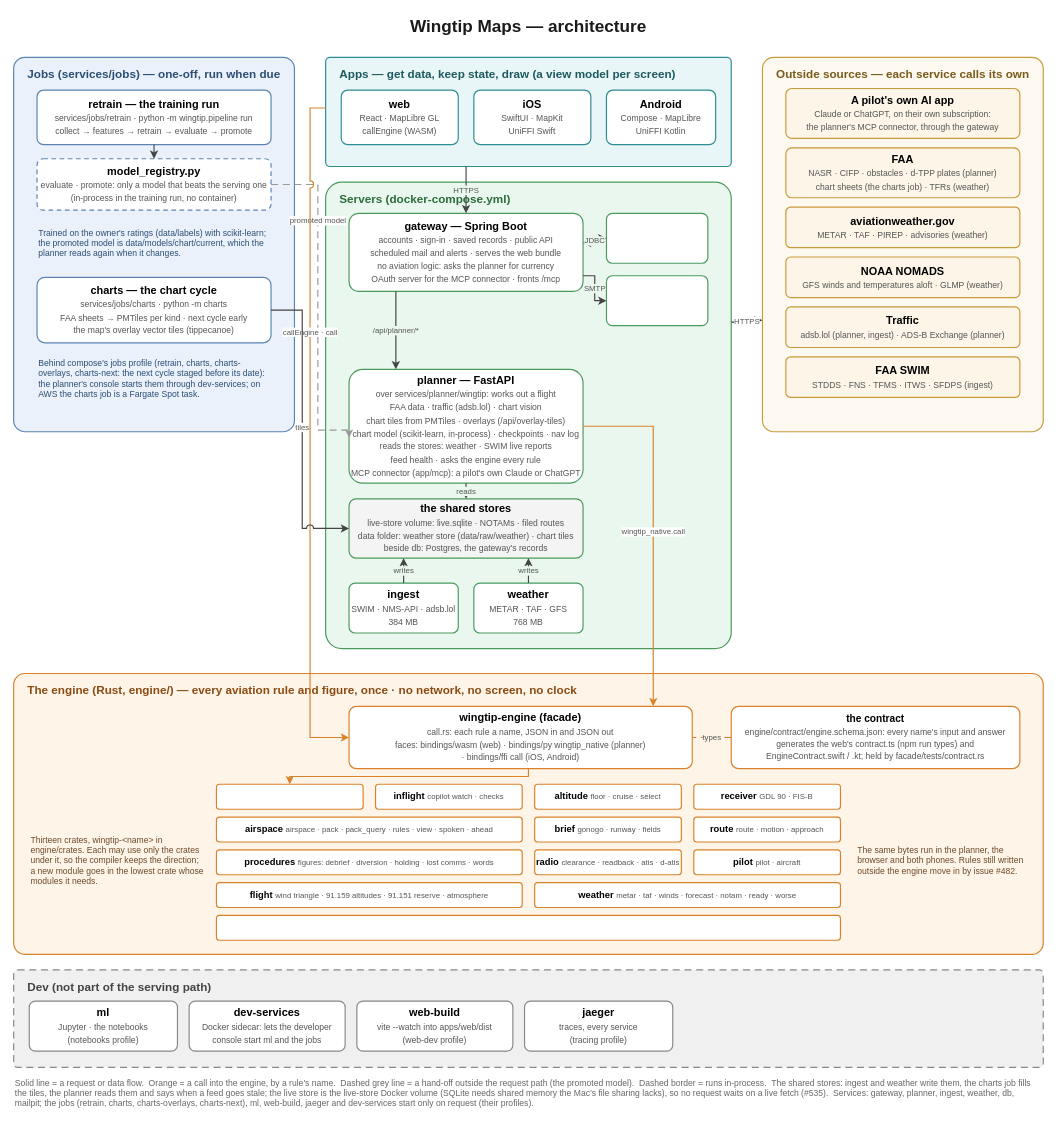
Image size: 1058x1124. Some labels were removed from this diagram. The shapes that lost their labels are listed below. From the top down, each one's centre as x and y in pixels, then its label:
At (657,237): "db PostgreSQL 18 accounts and records".
At (657,300): "mailpit the sign-in mail a local inbox".
At (289,796): "wording the radio calls".
At (528,927): "core geo · wmm · grid · sums · time · json · xml — no aviation rule".
